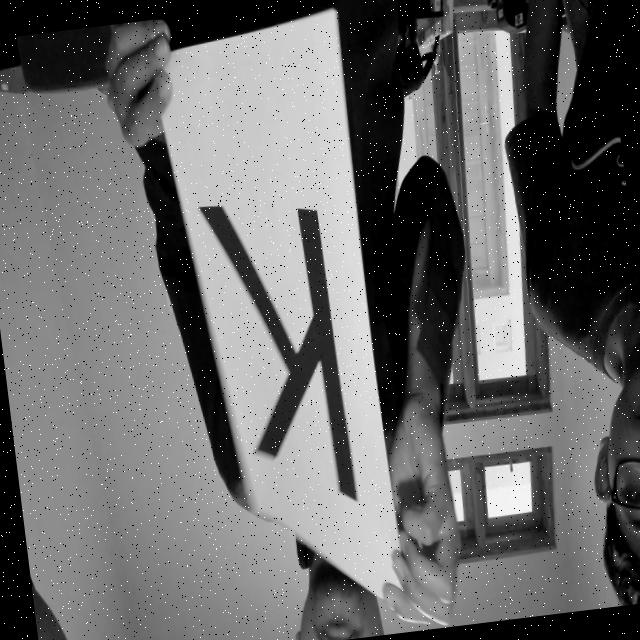k: (176, 136, 372, 540)
